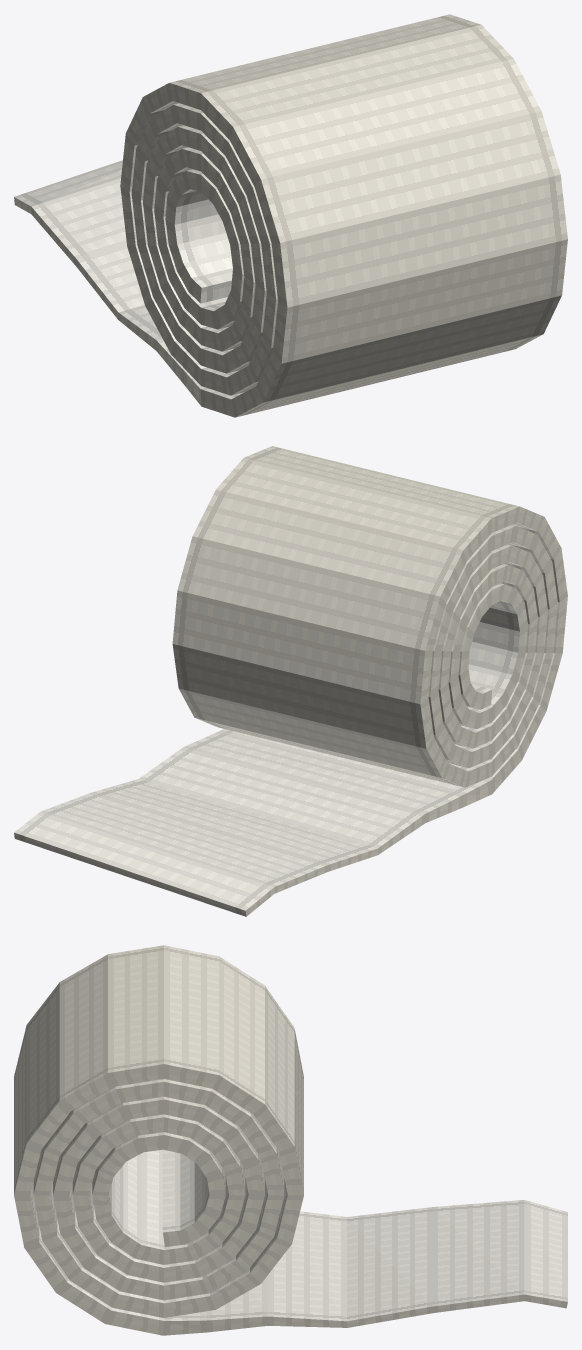
Rendered from bandages.glb.
3 views of the same model, one above another, from view 1: azimuth 30°, elevation 25°; view 2: azimuth 150°, elevation 25°; view 3: azimuth 270°, elevation 25° (orthographic). The views are drawn at different scales.
Visible parts, largest first — view 1: block_hollow wound cotton bandage, block_partly unwound cloth tail; view 2: block_hollow wound cotton bandage, block_partly unwound cloth tail; view 3: block_hollow wound cotton bandage, block_partly unwound cloth tail.
Boxes of the visible parts, x1,y1,x2,y2 form: block_hollow wound cotton bandage: [120, 14, 567, 417]; block_partly unwound cloth tail: [14, 160, 205, 406]; block_hollow wound cotton bandage: [172, 446, 567, 793]; block_partly unwound cloth tail: [14, 729, 491, 916]; block_hollow wound cotton bandage: [14, 945, 303, 1335]; block_partly unwound cloth tail: [163, 1200, 567, 1335].
Size of the model in its own units: 0.0505 by 0.049 by 0.0906.
Materials: 1 (1 with a texture image).
